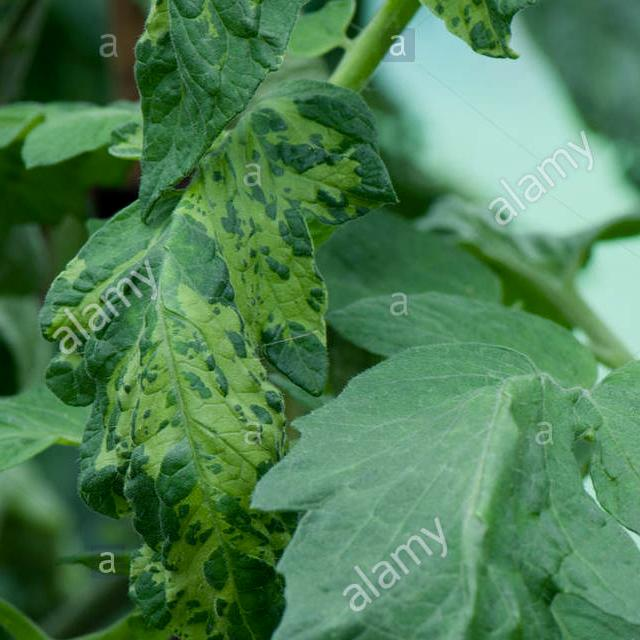Tomato leaf mosaic virus: (44, 26, 363, 640), (247, 314, 632, 640), (98, 0, 449, 198), (368, 0, 560, 77)
